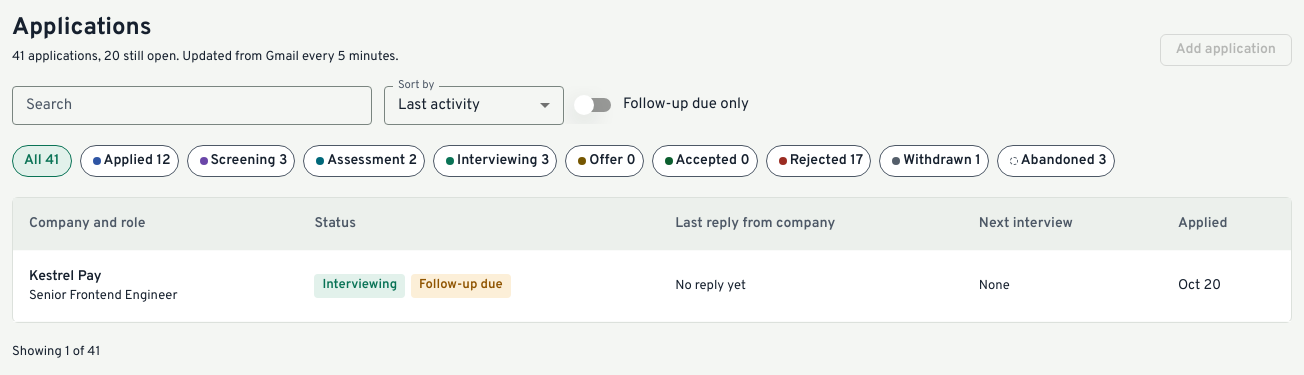
Scenario: the public demo's read-only controls › free-text controls are disabled with a tooltip explaining why
Step 1. Hover over the element named "Adding records by hand is turned off in the demo." → (1226, 50), box [1160,34,1292,66]
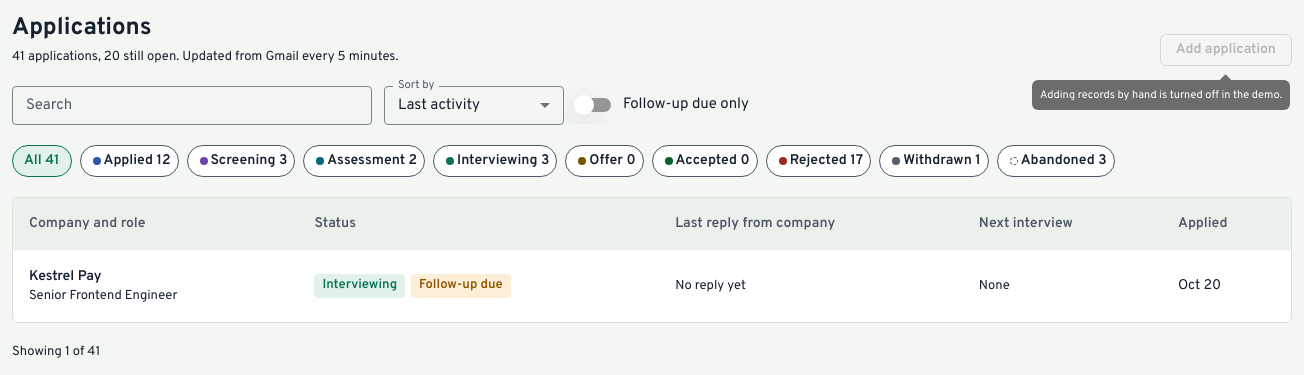
Now the tooltip reads "Adding records by hand is turned off in the demo.", box [1040,88,1282,102]
